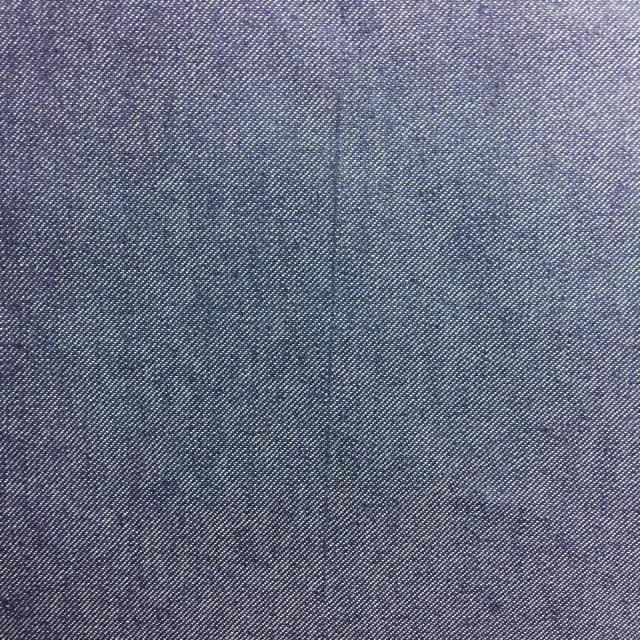Line: (314, 41, 345, 619)
